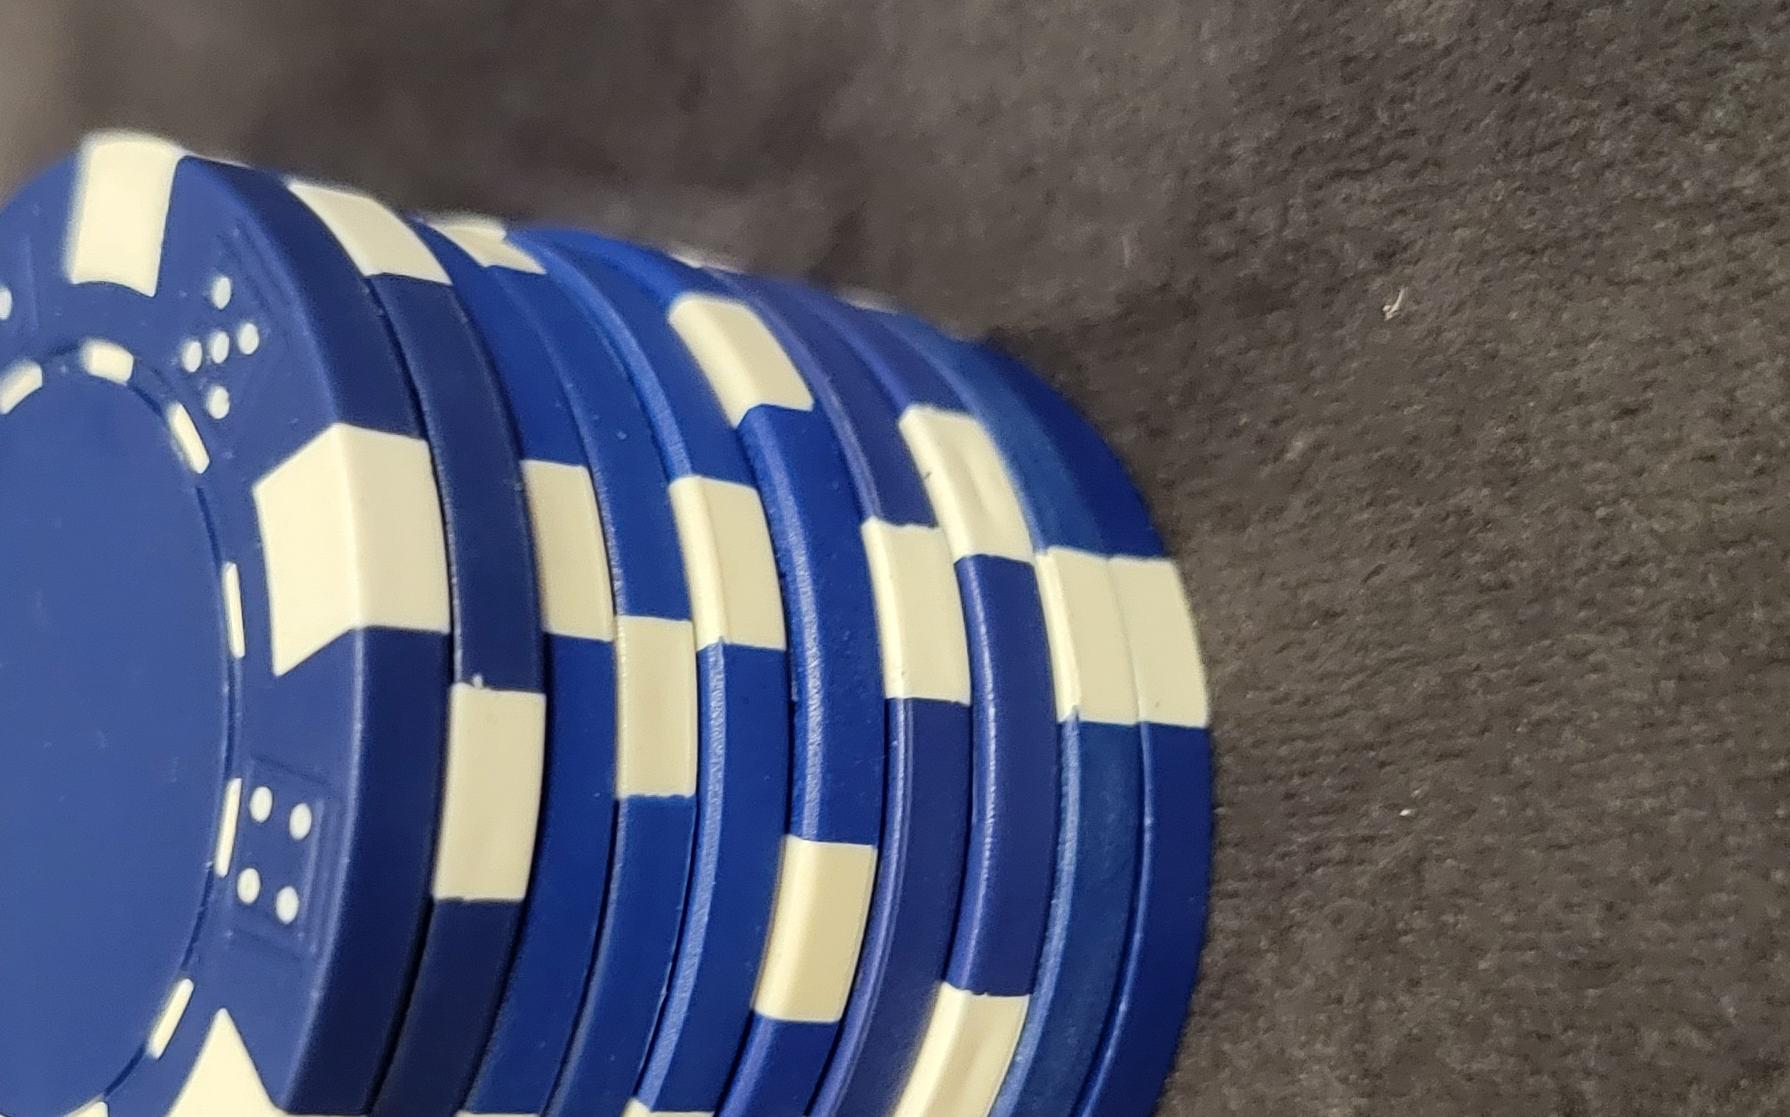Chip: (1, 230, 1044, 1117)
